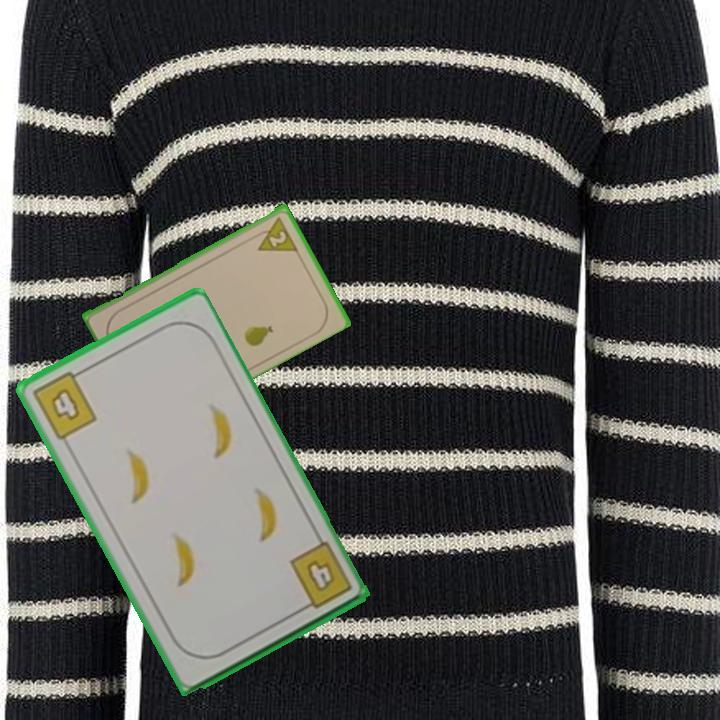2p: (249, 213, 300, 254)
4b: (28, 365, 100, 443), (285, 538, 355, 615)
